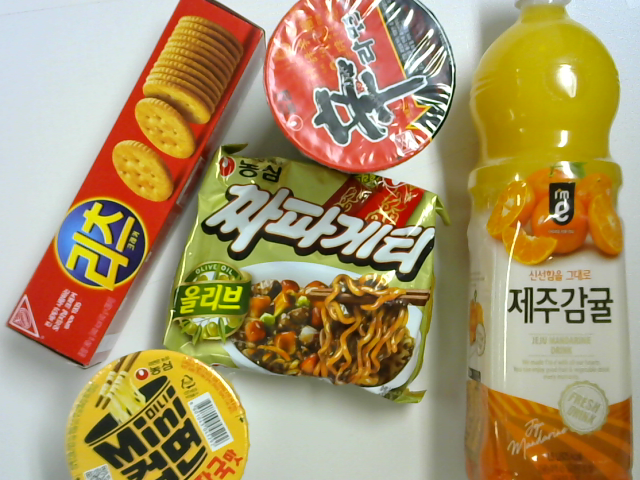Hejangmini: (67, 350, 247, 480)
Jeju_Tangerine_1.5L: (473, 6, 631, 480)
Olive_Chapaghetti: (161, 146, 447, 408)
Ritz_Cracker: (13, 8, 265, 370)
Sinramen_small: (267, 4, 461, 172)
